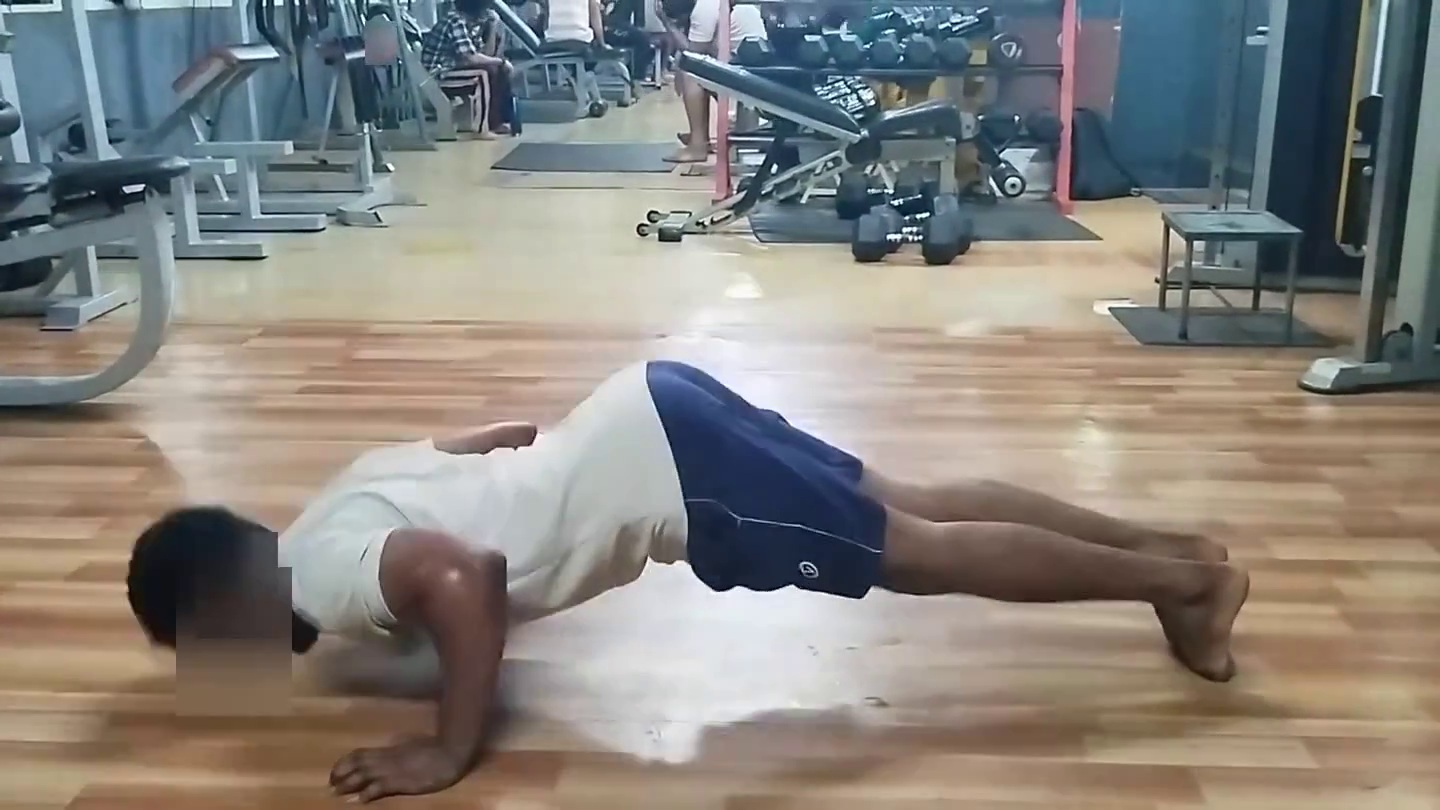push_up: (100, 334, 1314, 810)
